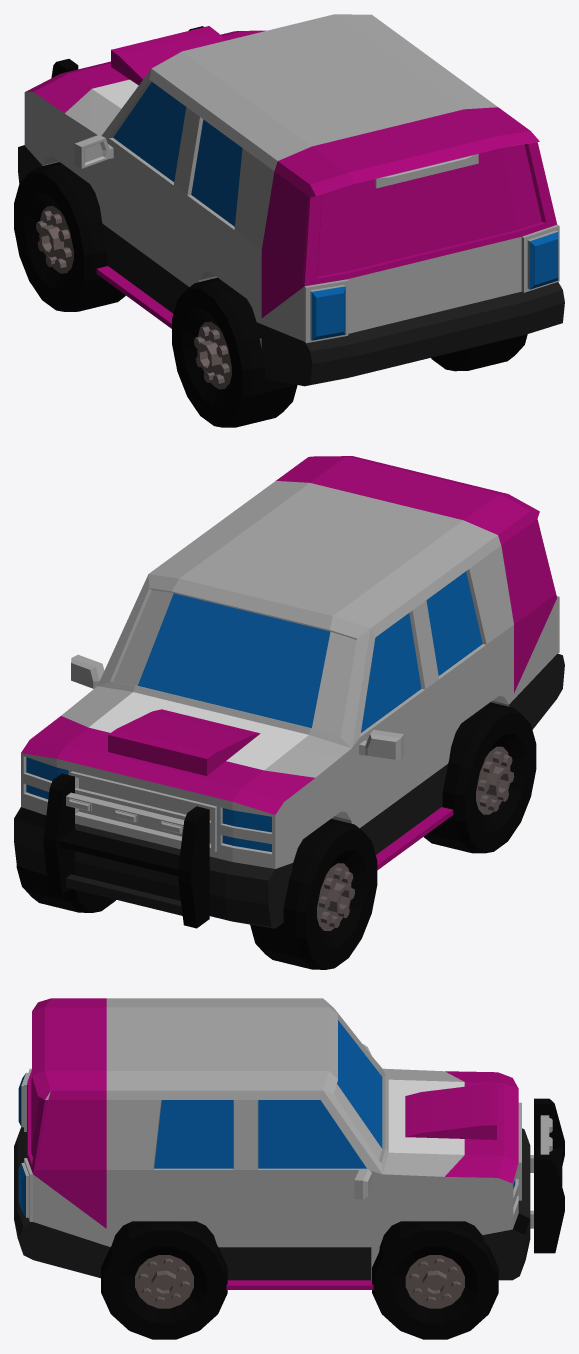
Rendered from car_3.fbx.
3 renders of one model, top to bottom at view 1: azimuth 30°, elevation 25°; view 2: azimuth 150°, elevation 25°; view 3: azimuth 270°, elevation 25°, orthographic. The views are drawn at different scales.
Parts seen in each view (by area): view 1: polySurface616; view 2: polySurface616; view 3: polySurface616.
Part boxes in pixels (box(x1,y1,x2,y2)): polySurface616: box(14, 14, 564, 427); polySurface616: box(14, 456, 564, 969); polySurface616: box(14, 998, 564, 1339).
Size of the model in its own units: 212 by 177 by 361.
